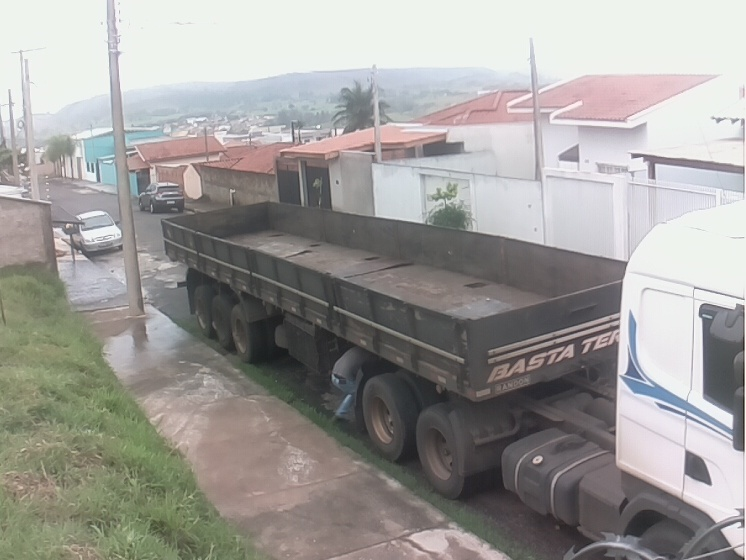person: (328, 341, 372, 427)
